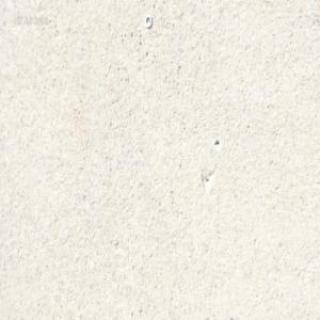Washertrack_idkeyframe: (143, 14, 151, 28)
